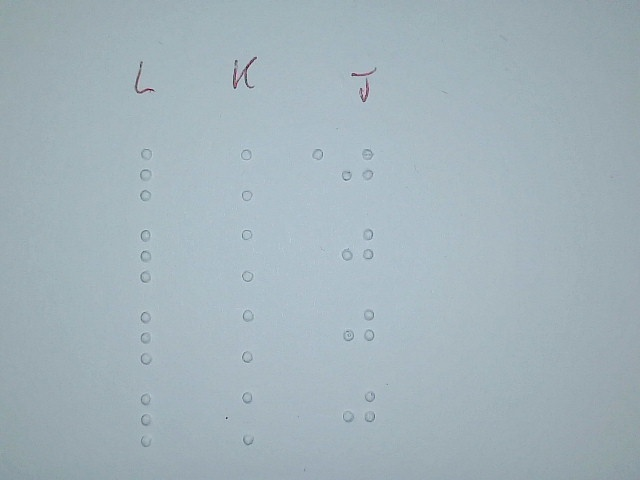J: (339, 140, 377, 199), (339, 221, 377, 280), (339, 301, 377, 360), (340, 382, 378, 441)
K: (232, 145, 273, 206), (233, 224, 274, 285), (233, 305, 274, 366), (234, 387, 275, 448)
L: (133, 144, 174, 205), (131, 224, 172, 285), (132, 306, 173, 367), (132, 389, 173, 450)
